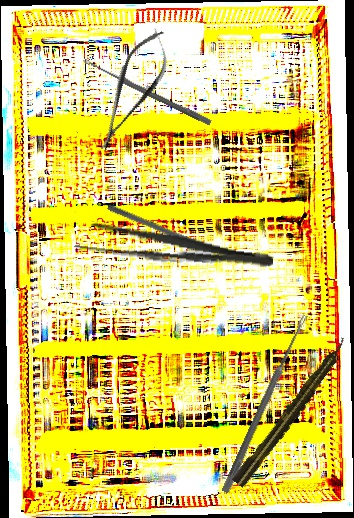Dressing Forceps: (73, 219, 276, 277)
Handpiece: (230, 335, 353, 489)
Micro Scissor: (82, 22, 182, 159)
Pusher: (106, 203, 240, 267)
Surgical Spoon: (221, 313, 309, 494), (81, 57, 213, 126)
